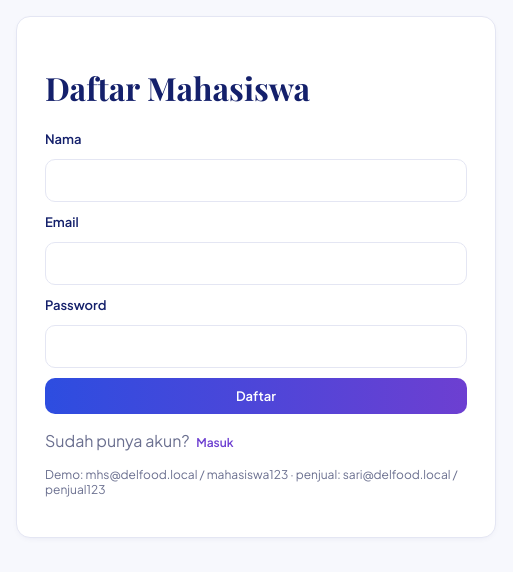
Login (mode daftar) - validasi form kosong › menampilkan error password saja jika hanya password yang terlalu pendek
Step 1. Type "Edwin" into the field labelled "Nama" → (256, 180), box [45,159,467,202]
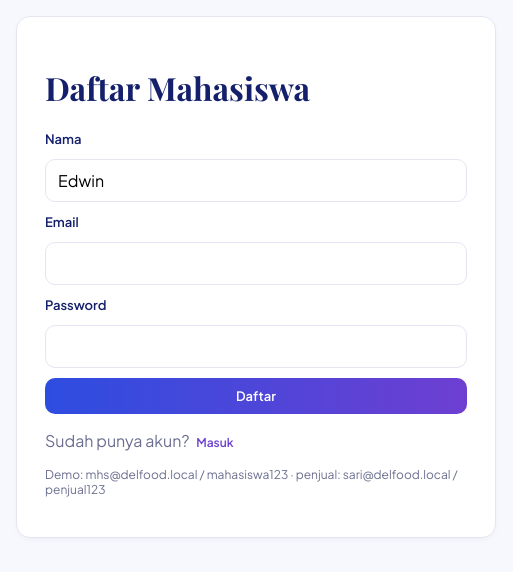
Step 2. Type "edwin@delfood.local" into the field labelled "Email" → (256, 263), box [45,242,467,285]
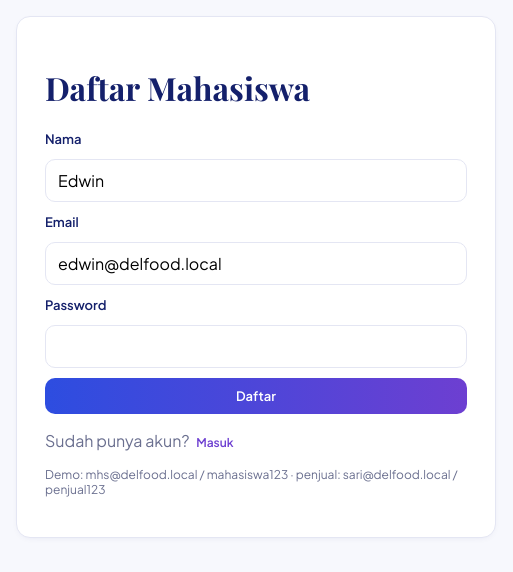
Step 3. Type "123" into the password field labelled "Password" → (256, 346), box [45,325,467,368]
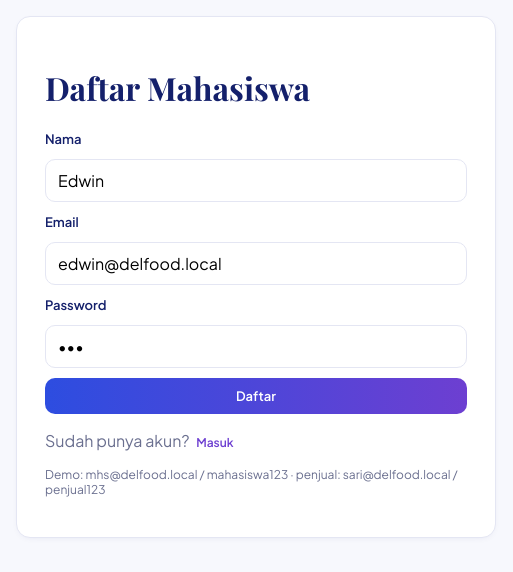
Step 4. Submit the form with id "form-login"
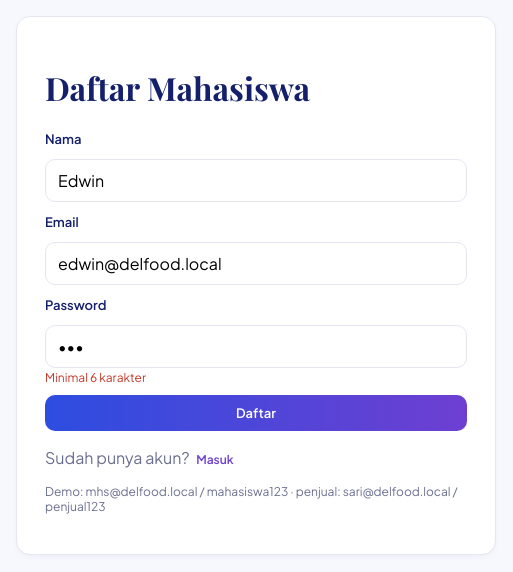
Result: the text "Minimal 6 karakter" is shown at [45,370,146,385]
